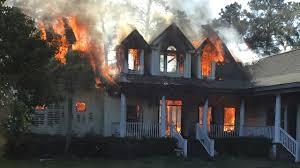fire: (38, 15, 122, 88), (196, 34, 223, 76), (223, 105, 237, 131), (74, 99, 85, 111)
